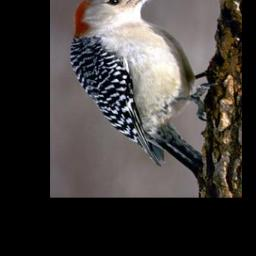Woodpecker: (69, 0, 216, 168)
